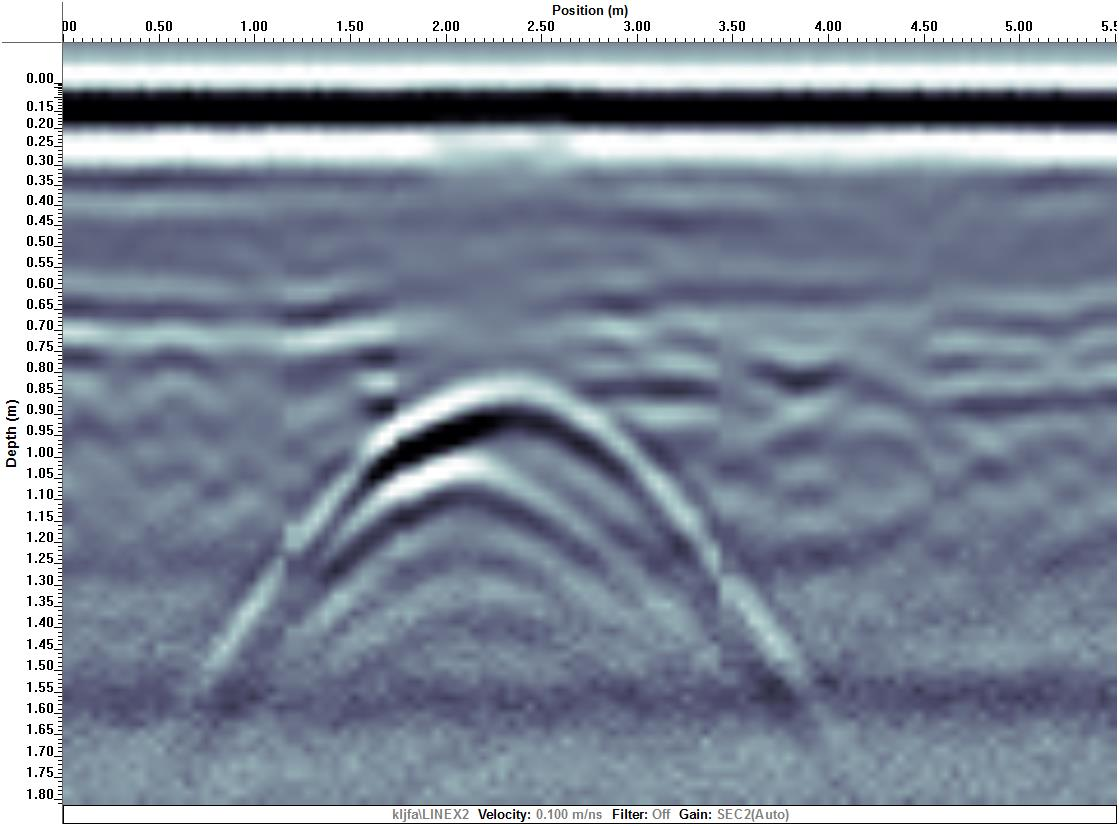hyperbola: (228, 373, 773, 663)
